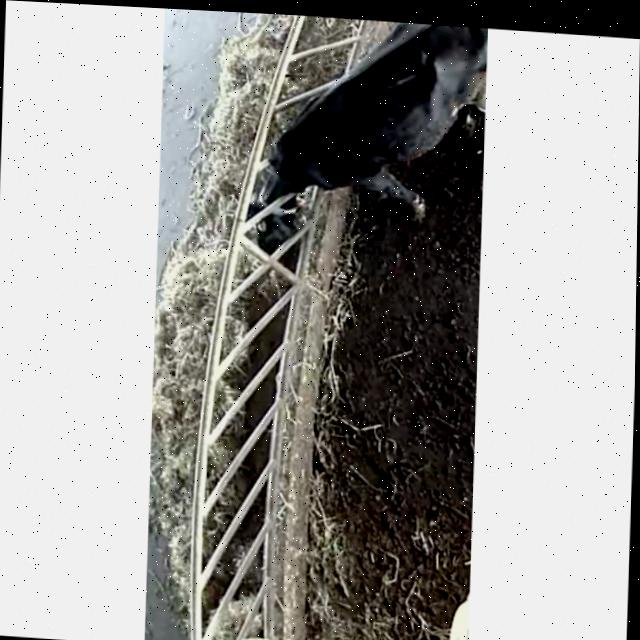eat: (181, 77, 394, 272)
